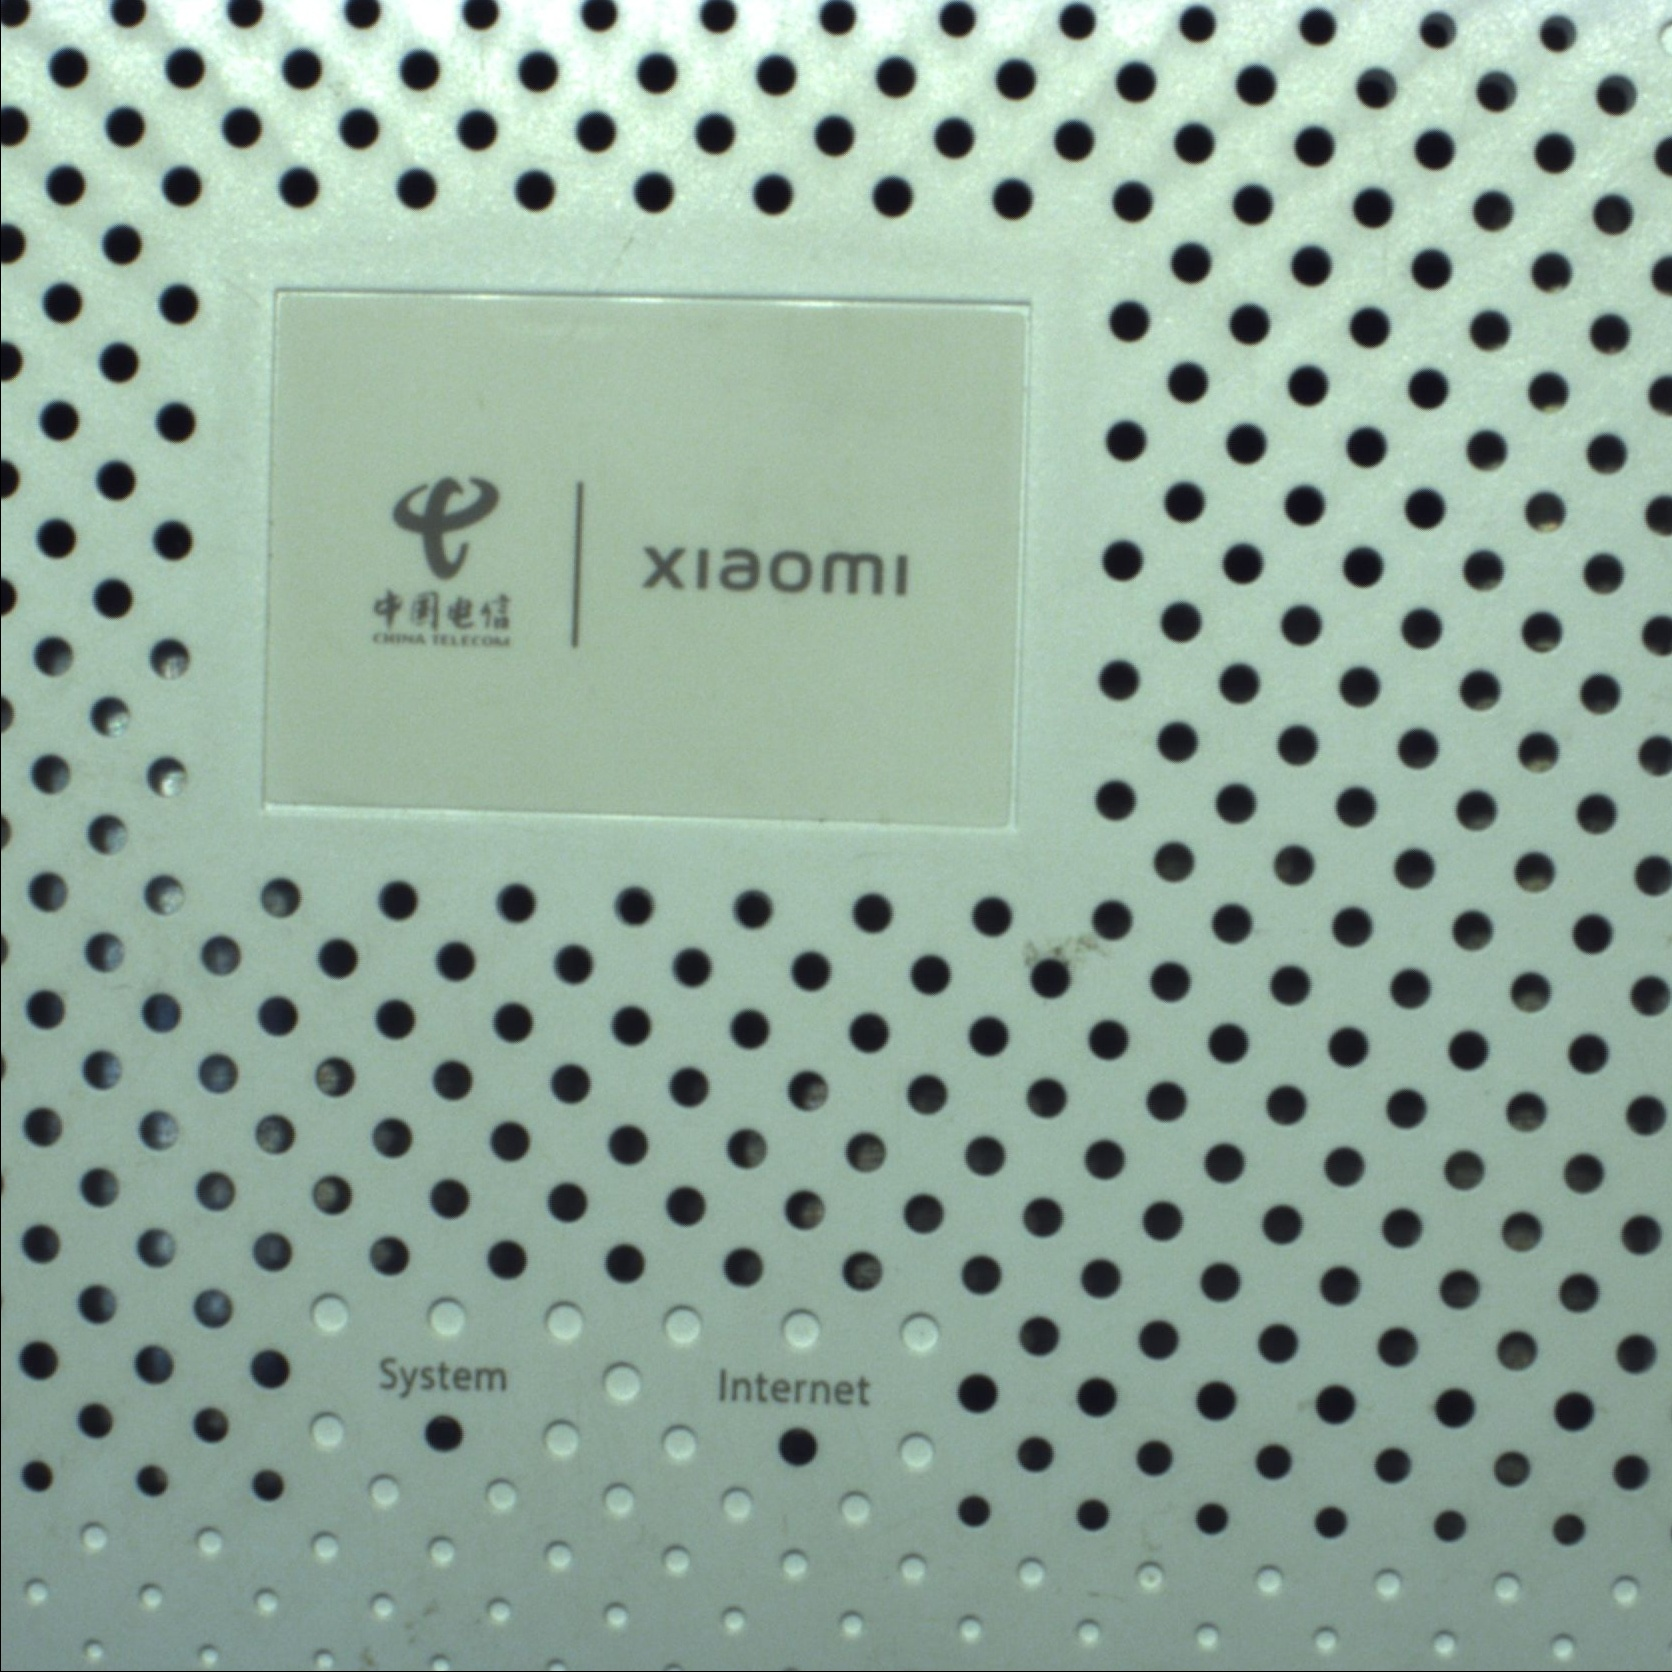MAA_Telecom: (351, 455, 929, 648)
